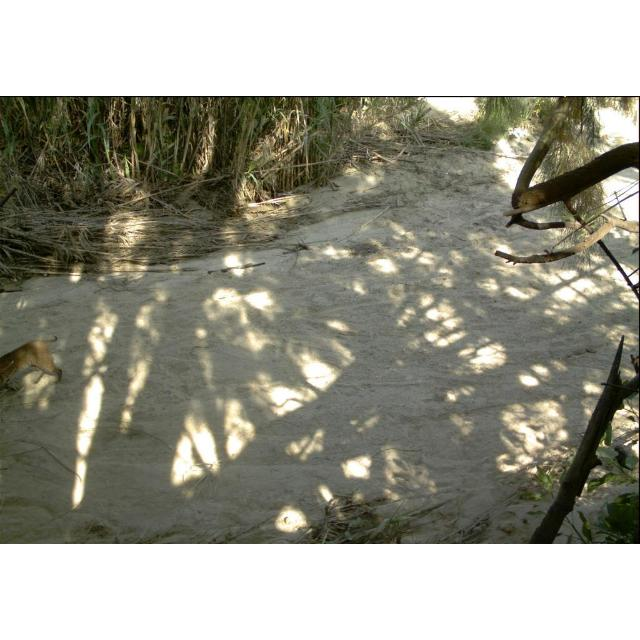animals: (0, 336, 66, 396)
